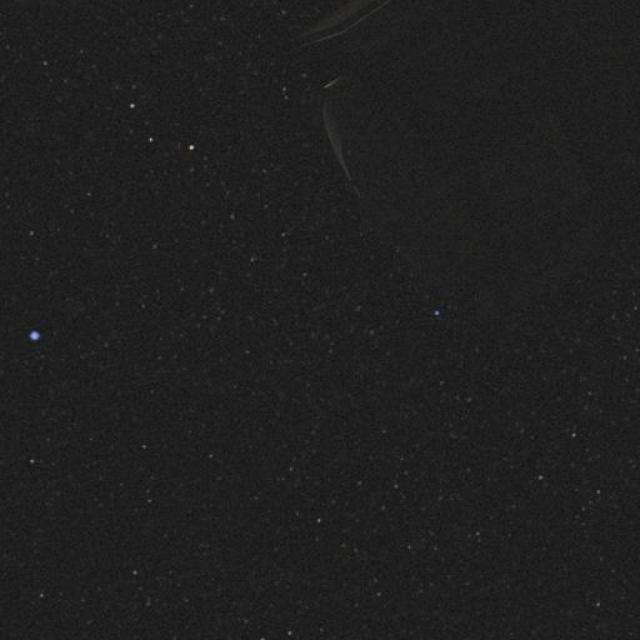debris: (272, 58, 618, 249)
